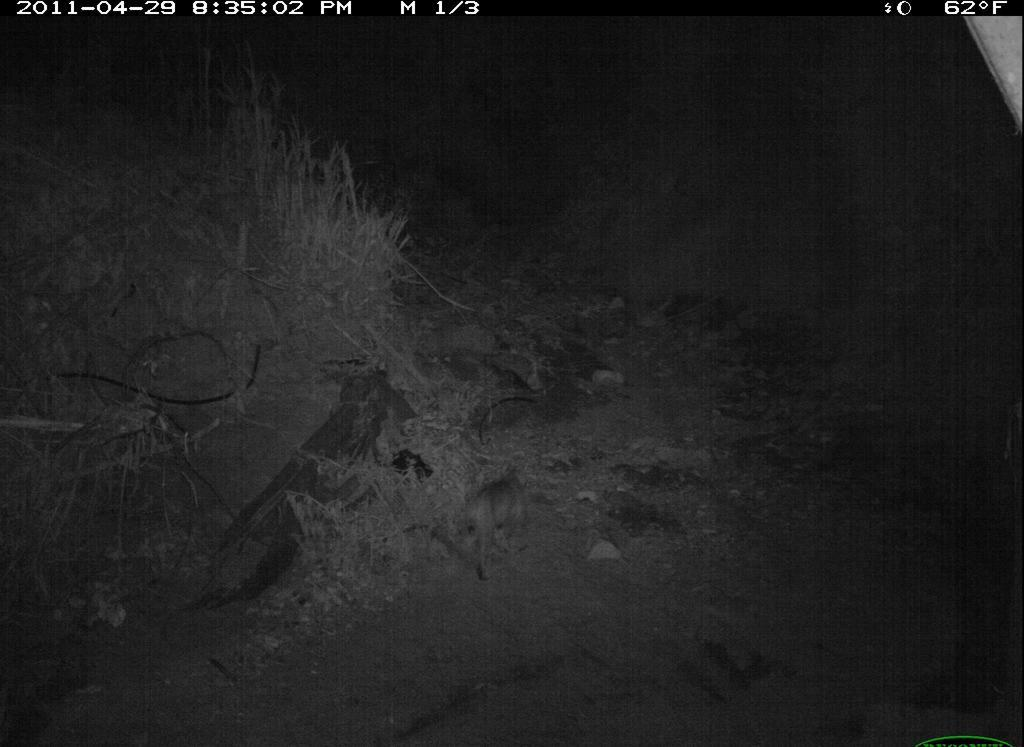bobcat: (452, 456, 545, 584)
